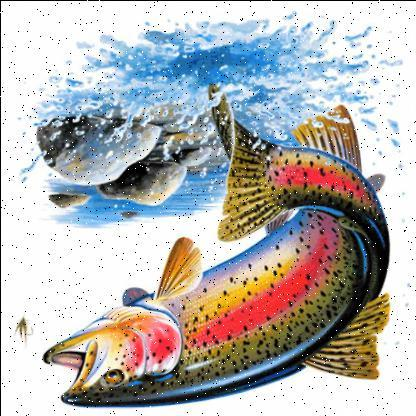fish: (40, 82, 392, 408)
